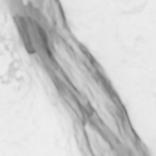broken_brick: (63, 0, 155, 152), (0, 0, 72, 155)
crack: (2, 0, 155, 155)
